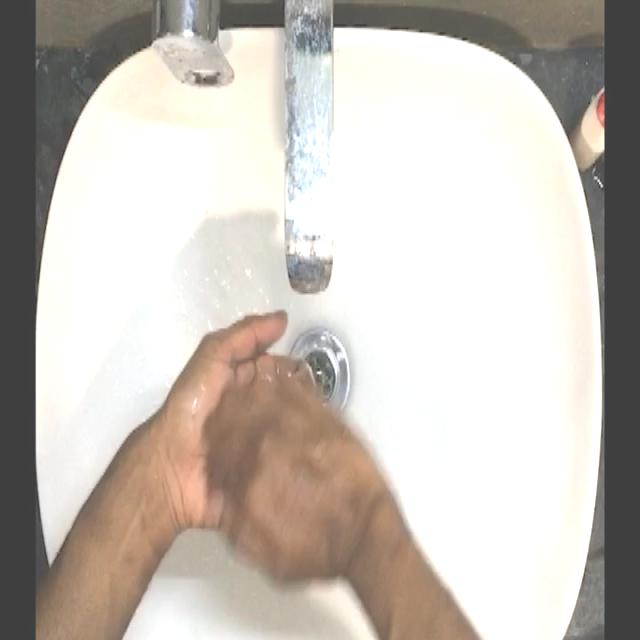step_4: (169, 305, 364, 588)
